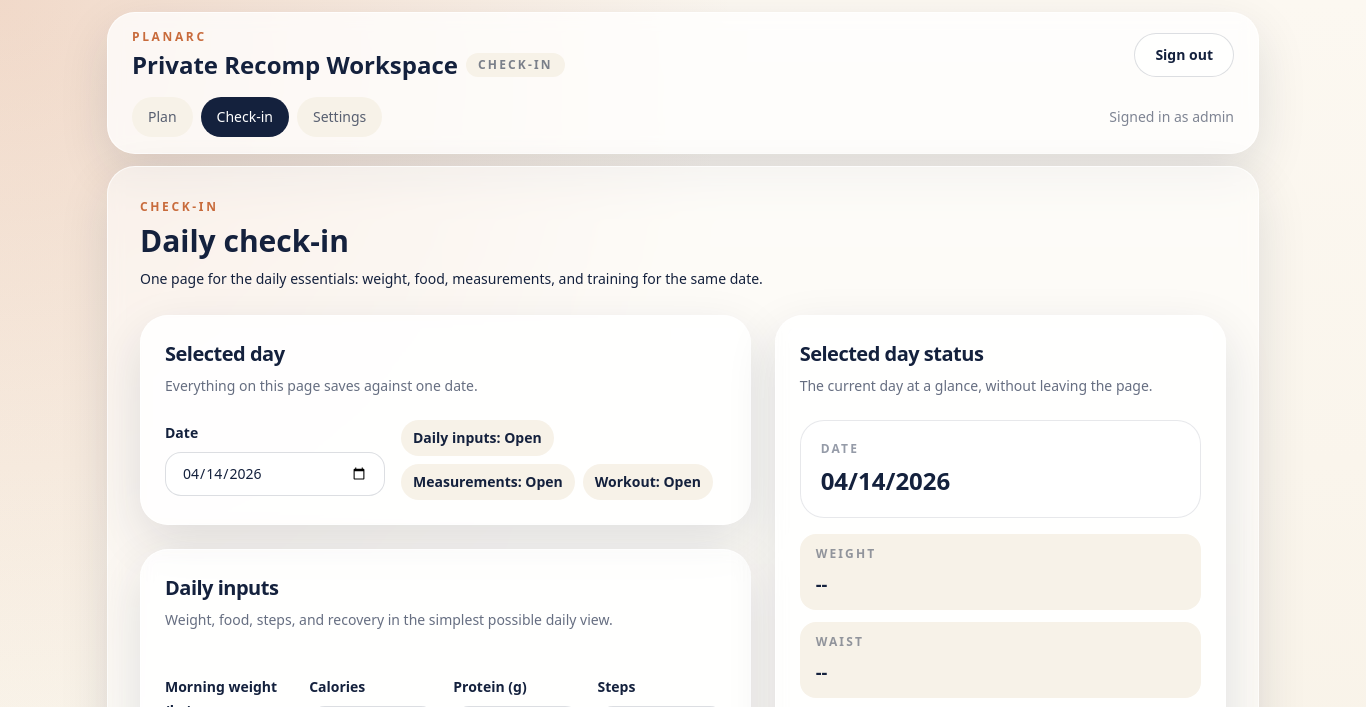
Test: check-in page saves daily inputs for the selected date
Expected: the heading "Daily check-in" is shown, [140,220,349,261]
Type "2026-04-12" into the date field labelled "Date" at (275, 474), box [165,452,385,496]
(page scrolled)
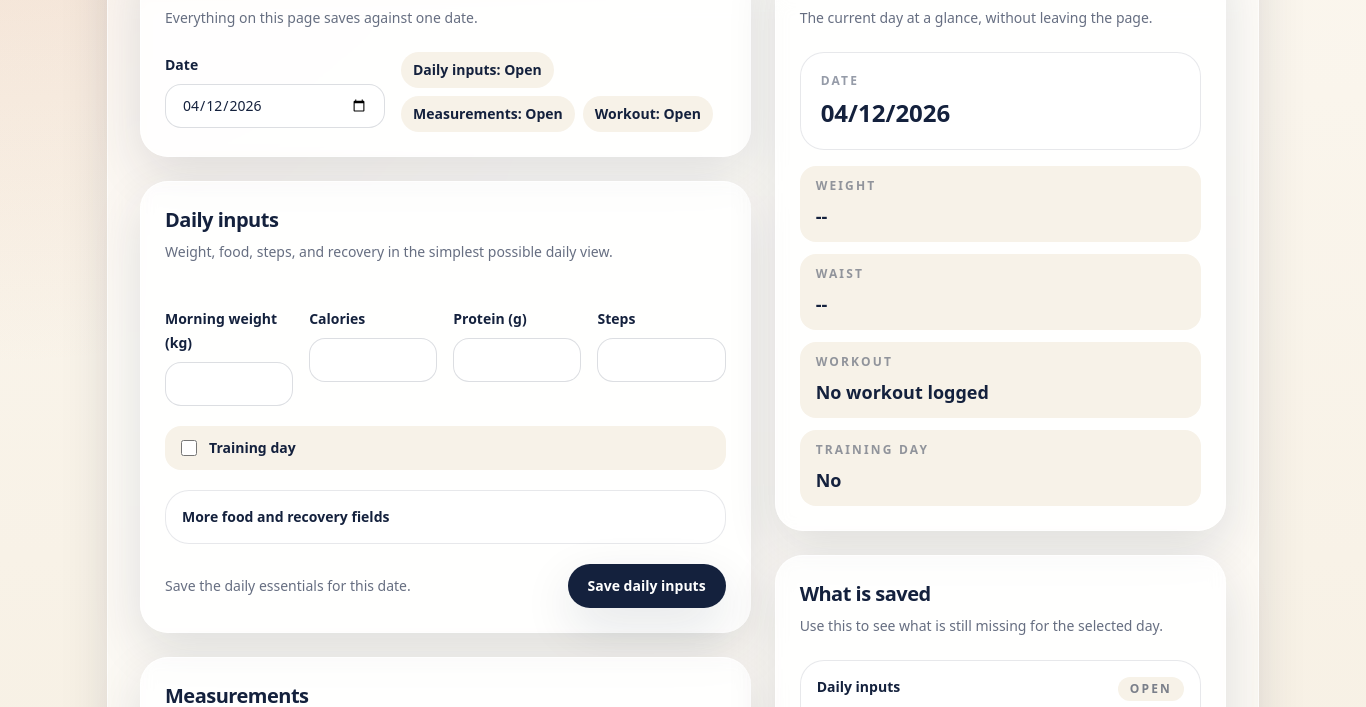
Type "94.4" into the number field labelled "Morning weight (kg)" at (229, 384), box [165,362,293,406]
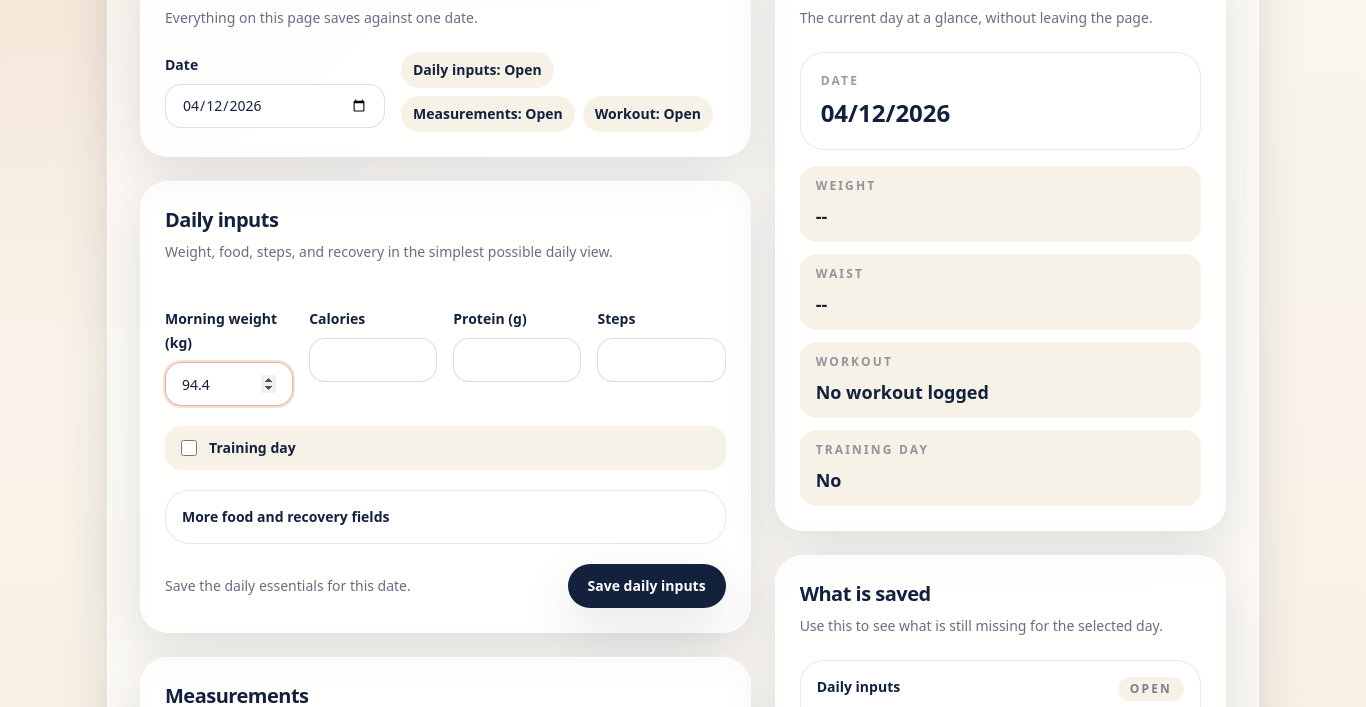
Type "2140" into the number field labelled "Calories" at (373, 360), box [309,338,437,382]
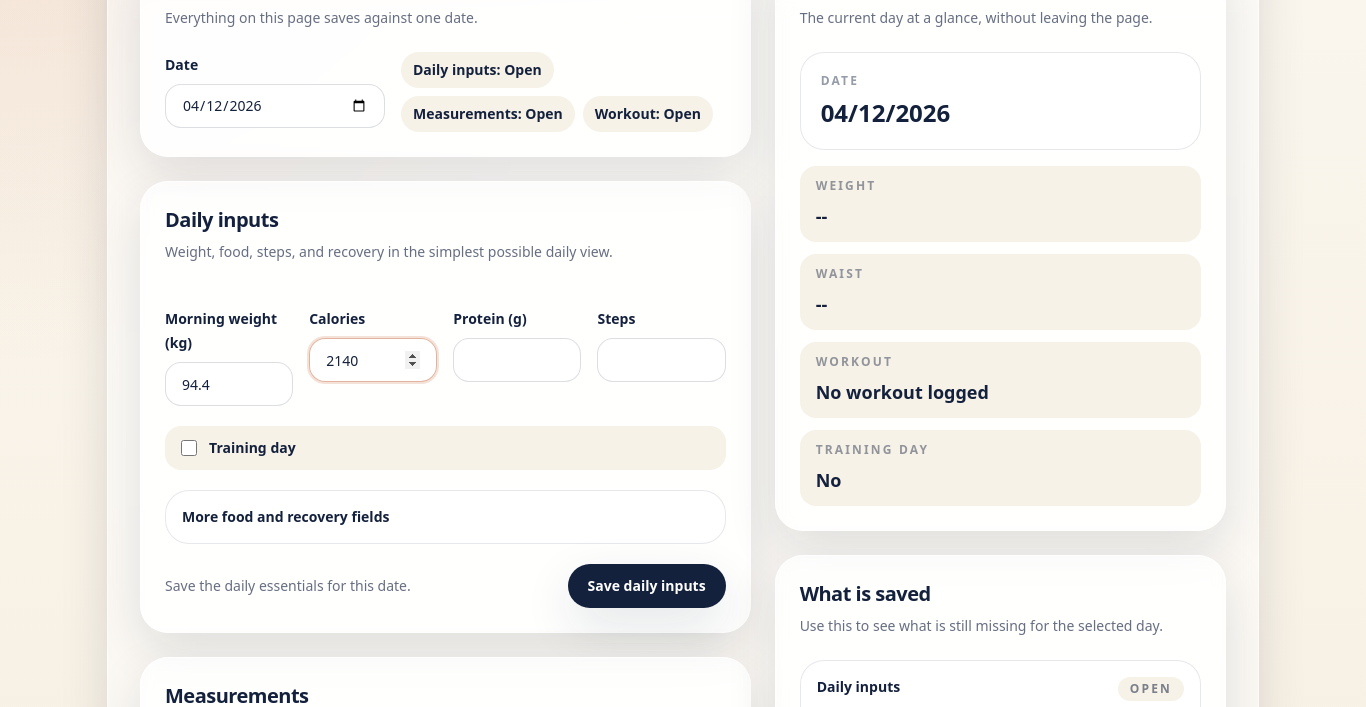
Type "205" into the number field labelled "Protein (g)" at (517, 360), box [453,338,582,382]
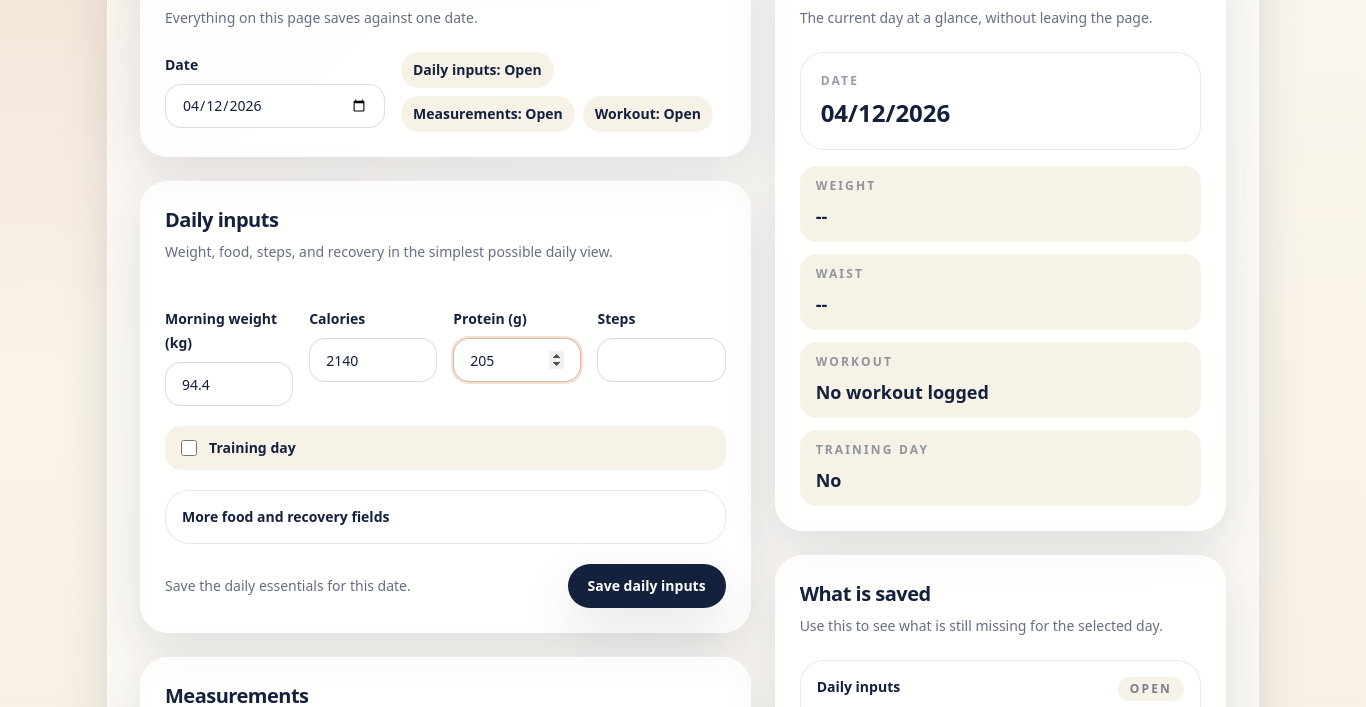
Type "9100" into the number field labelled "Steps" at (662, 360), box [598,338,726,382]
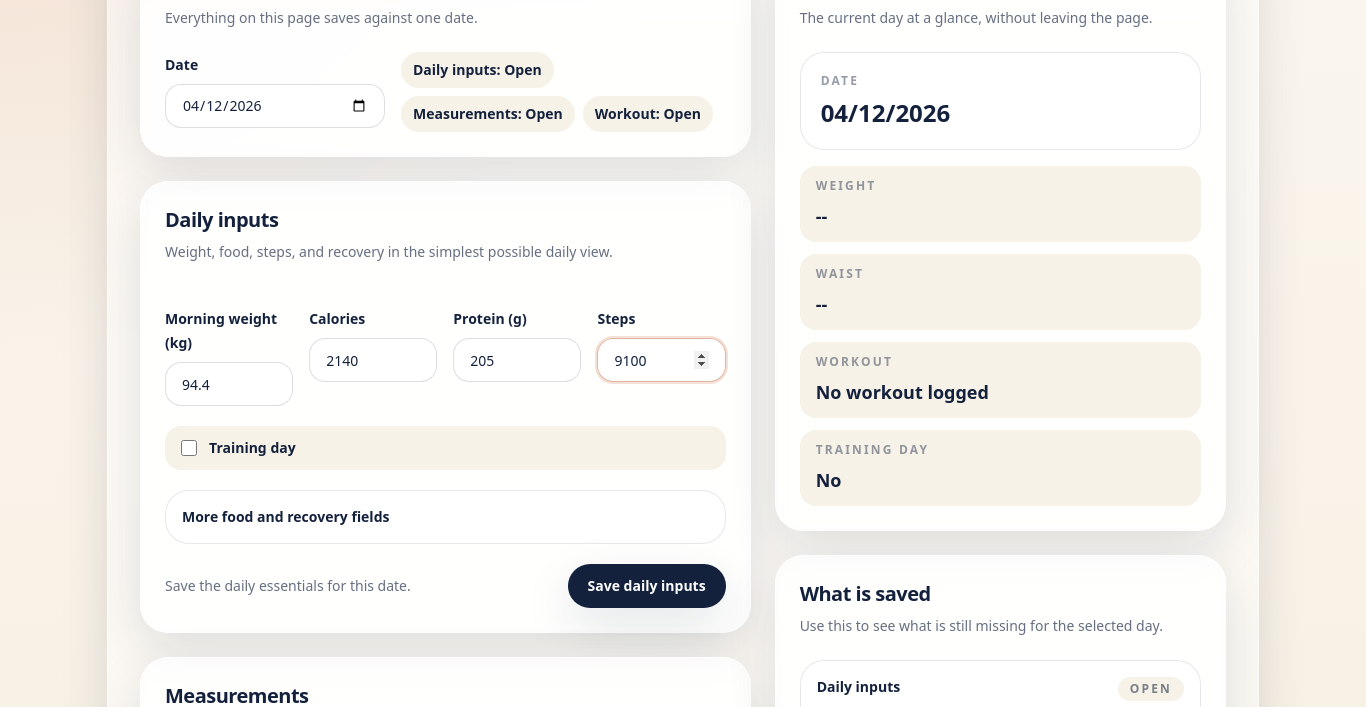
Click the button "Save daily inputs" at (647, 586), box [568,564,726,608]
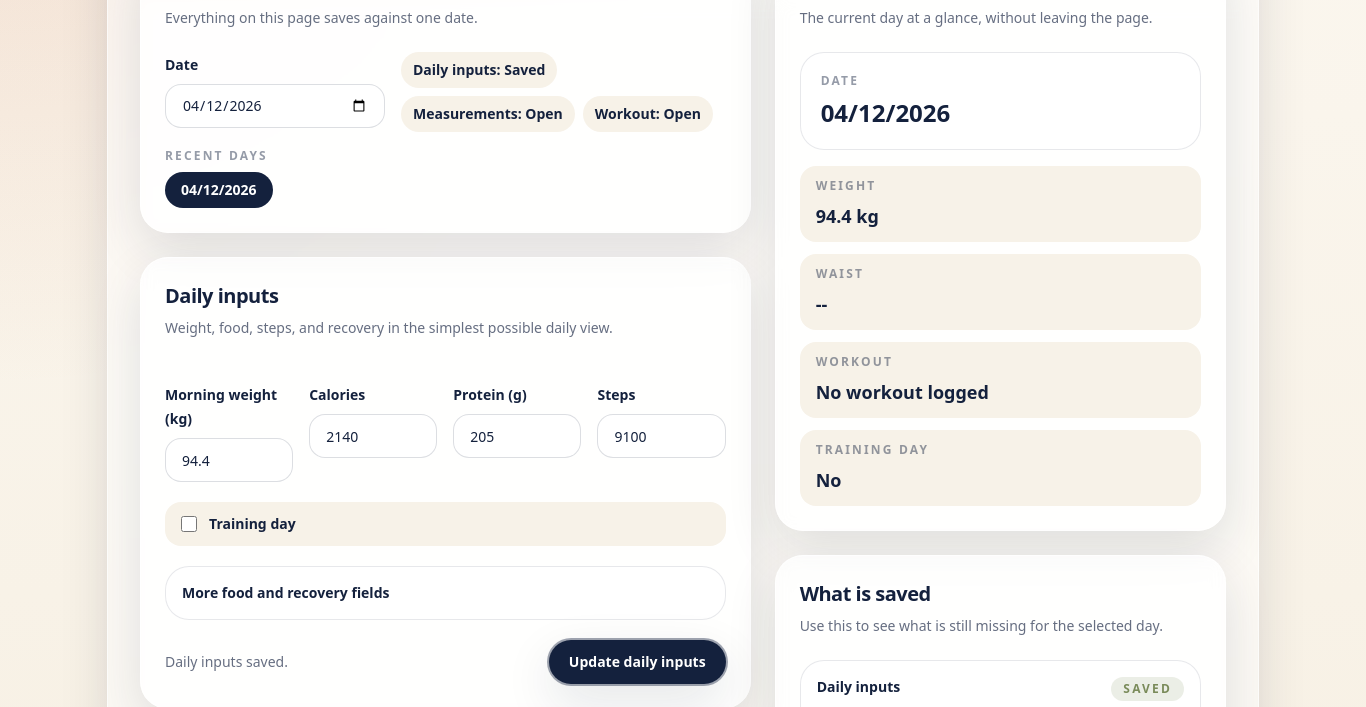
Expected: the text "Daily inputs saved." is shown, [165,652,288,672]
Expected: the text "Daily inputs: Saved" is shown, [401,52,558,88]
